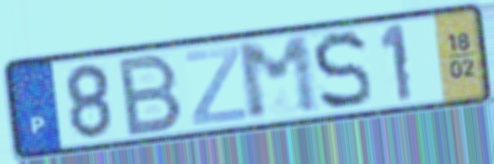1: (378, 20, 417, 106)
8: (62, 62, 116, 142)
B: (117, 50, 187, 139)
M: (232, 32, 324, 124)
S: (309, 28, 375, 114)
Z: (181, 43, 248, 128)
